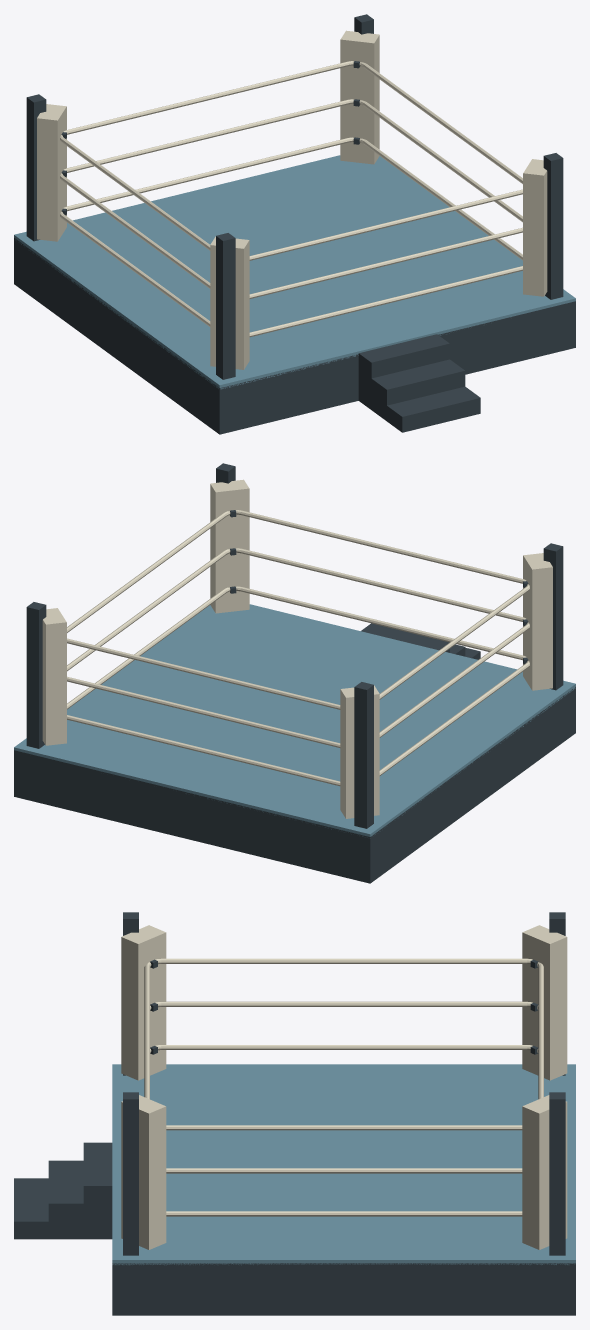
3 views of the same model, one above another, from view 1: azimuth 30°, elevation 25°; view 2: azimuth 150°, elevation 25°; view 3: azimuth 270°, elevation 25° (orthographic). The views are drawn at different scales.
Parts seen in each view (by area): view 1: WholeRecessFreeCanvasDeck, WholeRaisedPlatformGroundSole, WholeThreeTreadAccessStairGroundSole, WholeContinuousFourCornerRope_2, WholeContinuousFourCornerRope_1, WholeContinuousFourCornerRope_0, WholeInsideCornerPad_2, WholeInsideCornerPad_3, WholeInsideCornerPad_1, WholeCornerPost_0, WholeInsideCornerPad_0, WholeCornerPost_1 (+1 smaller); view 2: WholeRecessFreeCanvasDeck, WholeRaisedPlatformGroundSole, WholeContinuousFourCornerRope_2, WholeContinuousFourCornerRope_1, WholeContinuousFourCornerRope_0, WholeInsideCornerPad_1, WholeInsideCornerPad_0, WholeInsideCornerPad_2, WholeCornerPost_3, WholeInsideCornerPad_3, WholeCornerPost_2, WholeCornerPost_0 (+1 smaller); view 3: WholeRecessFreeCanvasDeck, WholeRaisedPlatformGroundSole, WholeThreeTreadAccessStairGroundSole, WholeContinuousFourCornerRope_2, WholeInsideCornerPad_3, WholeInsideCornerPad_0, WholeInsideCornerPad_2, WholeContinuousFourCornerRope_1, WholeInsideCornerPad_1, WholeContinuousFourCornerRope_0, WholeCornerPost_2, WholeCornerPost_1.
Boxes of the visible parts, x1=… form: WholeRecessFreeCanvasDeck: x1=14, y1=155, x2=575, y2=389; WholeRaisedPlatformGroundSole: x1=14, y1=238, x2=575, y2=434; WholeThreeTreadAccessStairGroundSole: x1=358, y1=334, x2=480, y2=432; WholeContinuousFourCornerRope_2: x1=60, y1=61, x2=522, y2=260; WholeContinuousFourCornerRope_1: x1=60, y1=99, x2=522, y2=298; WholeContinuousFourCornerRope_0: x1=60, y1=137, x2=522, y2=337; WholeInsideCornerPad_2: x1=340, y1=30, x2=379, y2=164; WholeInsideCornerPad_3: x1=37, y1=104, x2=66, y2=241; WholeInsideCornerPad_1: x1=523, y1=159, x2=547, y2=296; WholeCornerPost_0: x1=216, y1=233, x2=235, y2=379; WholeInsideCornerPad_0: x1=210, y1=236, x2=249, y2=369; WholeCornerPost_1: x1=543, y1=153, x2=563, y2=299; WholeRecessFreeCanvasDeck: x1=14, y1=604, x2=575, y2=838; WholeRaisedPlatformGroundSole: x1=14, y1=687, x2=575, y2=883; WholeContinuousFourCornerRope_2: x1=67, y1=510, x2=529, y2=709; WholeContinuousFourCornerRope_1: x1=67, y1=548, x2=529, y2=747; WholeContinuousFourCornerRope_0: x1=67, y1=586, x2=529, y2=786; WholeInsideCornerPad_1: x1=210, y1=479, x2=249, y2=613; WholeInsideCornerPad_0: x1=523, y1=553, x2=552, y2=690; WholeInsideCornerPad_2: x1=42, y1=608, x2=66, y2=745; WholeCornerPost_3: x1=354, y1=682, x2=373, y2=828; WholeInsideCornerPad_3: x1=340, y1=685, x2=379, y2=818; WholeCornerPost_2: x1=26, y1=602, x2=46, y2=748; WholeCornerPost_0: x1=543, y1=543, x2=563, y2=690; WholeRecessFreeCanvasDeck: x1=112, y1=1064, x2=575, y2=1265; WholeRaisedPlatformGroundSole: x1=112, y1=1263, x2=575, y2=1315; WholeThreeTreadAccessStairGroundSole: x1=14, y1=1142, x2=112, y2=1239; WholeContinuousFourCornerRope_2: x1=144, y1=958, x2=543, y2=1130; WholeInsideCornerPad_3: x1=522, y1=925, x2=567, y2=1080; WholeInsideCornerPad_0: x1=121, y1=925, x2=166, y2=1080; WholeInsideCornerPad_2: x1=522, y1=1095, x2=567, y2=1249; WholeContinuousFourCornerRope_1: x1=150, y1=1001, x2=538, y2=1173; WholeInsideCornerPad_1: x1=121, y1=1095, x2=166, y2=1249; WholeContinuousFourCornerRope_0: x1=150, y1=1045, x2=538, y2=1216; WholeCornerPost_2: x1=549, y1=1092, x2=565, y2=1255; WholeCornerPost_1: x1=123, y1=1092, x2=138, y2=1255.
Size of the model in its own units: 4 by 2.02 by 4.85.
